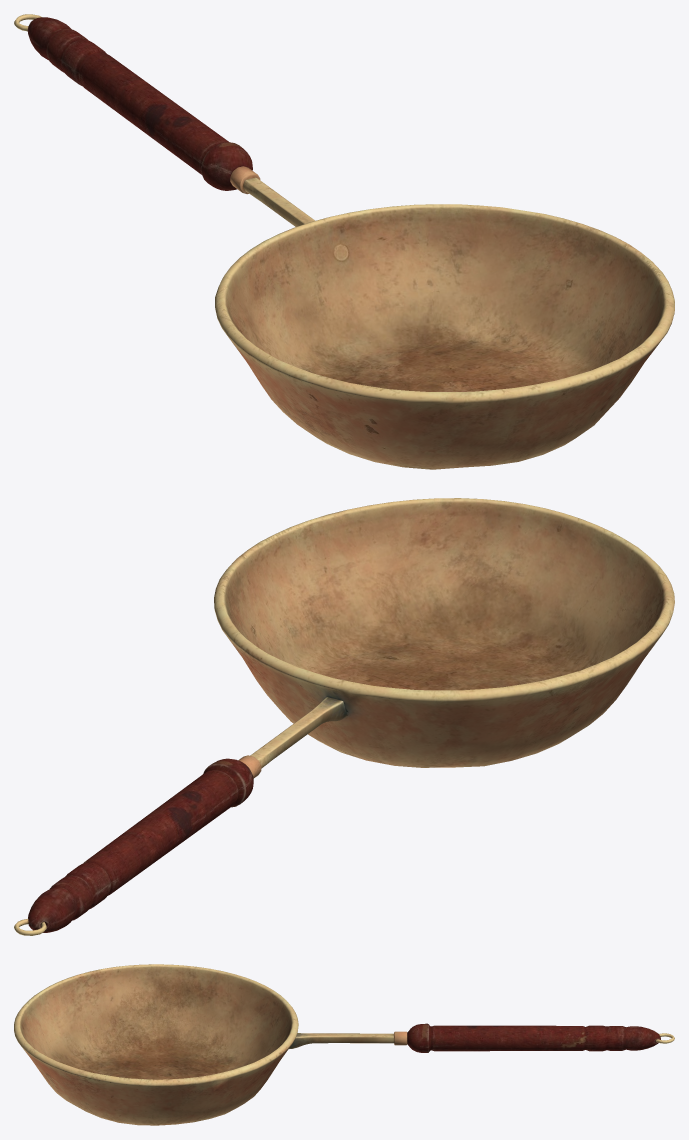
The model's file is brass_pan_01.fbx.
3 views of the same model, one above another, from view 1: azimuth 30°, elevation 25°; view 2: azimuth 150°, elevation 25°; view 3: azimuth 270°, elevation 25° (orthographic). The views are drawn at different scales.
Visible parts, largest first — view 1: brass_pan_01_LOD0; view 2: brass_pan_01_LOD0; view 3: brass_pan_01_LOD0.
Part boxes in pixels (x1,y1,x2,y2): brass_pan_01_LOD0: (14,14,674,469); brass_pan_01_LOD0: (14,498,674,935); brass_pan_01_LOD0: (14,964,674,1125).
Size of what is drawn, in the model's own units: 19.13 by 5.25 by 44.97.
1 material, 1 textured.
